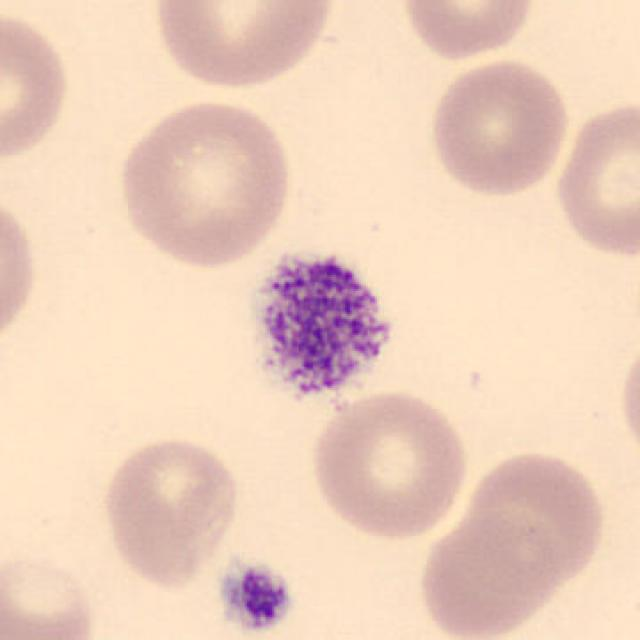Platelets: (235, 231, 409, 427), (213, 557, 299, 637)
RBC: (110, 94, 299, 272), (304, 386, 475, 543), (96, 430, 242, 591), (458, 446, 610, 591), (423, 55, 573, 199), (413, 508, 567, 640), (147, 0, 339, 93), (551, 95, 638, 263), (0, 6, 75, 170), (0, 546, 101, 640), (396, 0, 540, 63), (0, 182, 41, 360), (615, 330, 640, 466)
